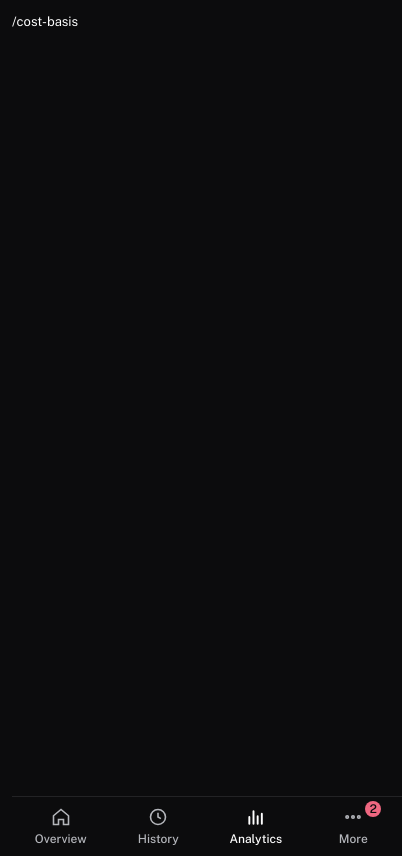
Test: mobile navigation › shows four tabs and opens each tab at its root
Click the link "History" at (158, 826), box [138,807,179,846]
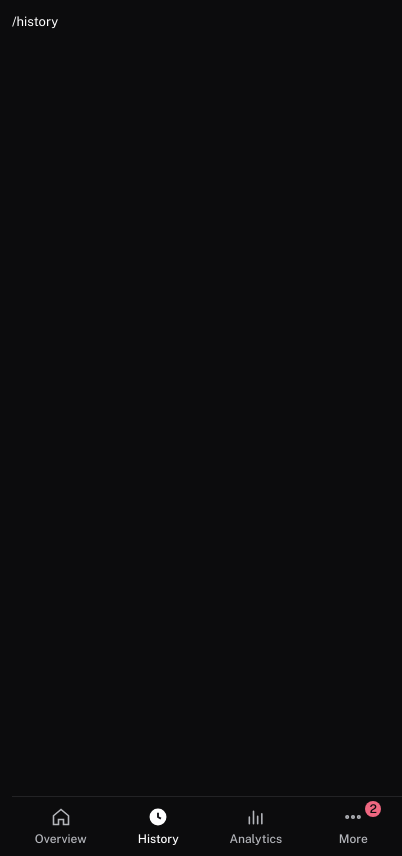
Expected: the text "/history" is shown, [12,14,58,29]
Click the link "Analytics" at (256, 826), box [229,807,282,846]
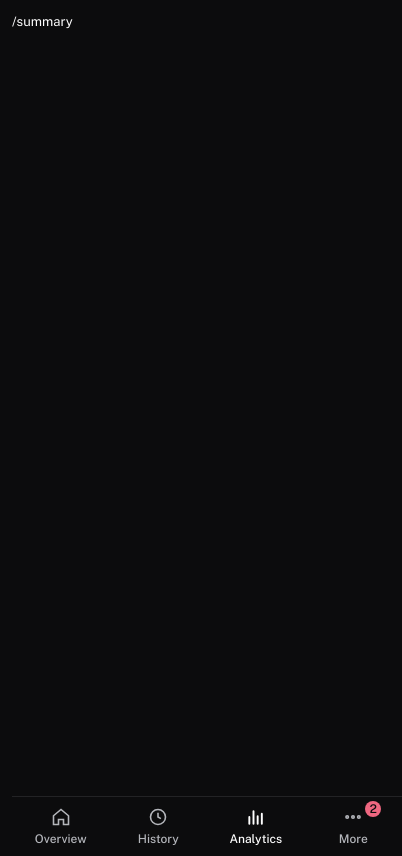
Expected: the text "/summary" is shown, [12,14,73,29]
